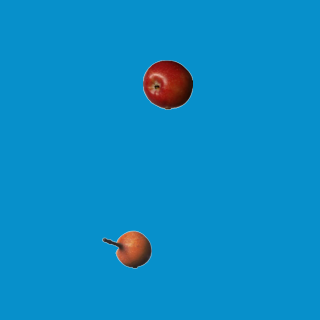Apple Braeburn: (142, 59, 192, 109)
Granadilla: (101, 224, 151, 274)
